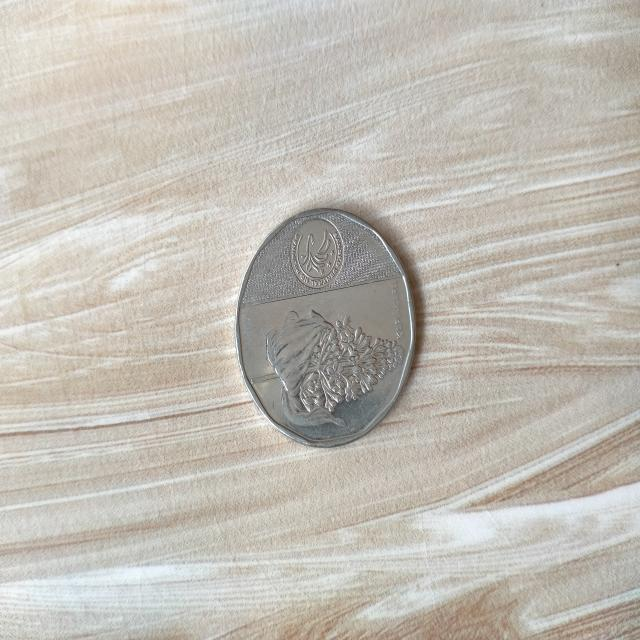10_New_Back: (263, 301, 410, 420)
